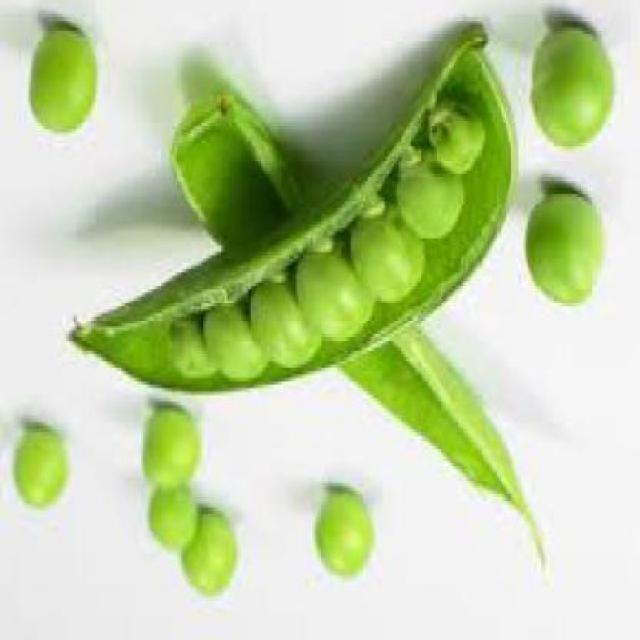BIODEGRADABLE: (169, 95, 545, 576), (79, 24, 513, 388), (533, 27, 612, 153), (526, 191, 597, 306), (294, 242, 371, 347), (348, 205, 422, 309), (29, 31, 93, 140), (248, 282, 318, 375), (394, 153, 461, 249), (200, 300, 268, 382), (312, 493, 371, 585), (179, 514, 235, 600), (141, 412, 196, 494), (12, 432, 62, 511), (428, 102, 480, 176), (164, 314, 210, 384), (149, 490, 196, 548)
